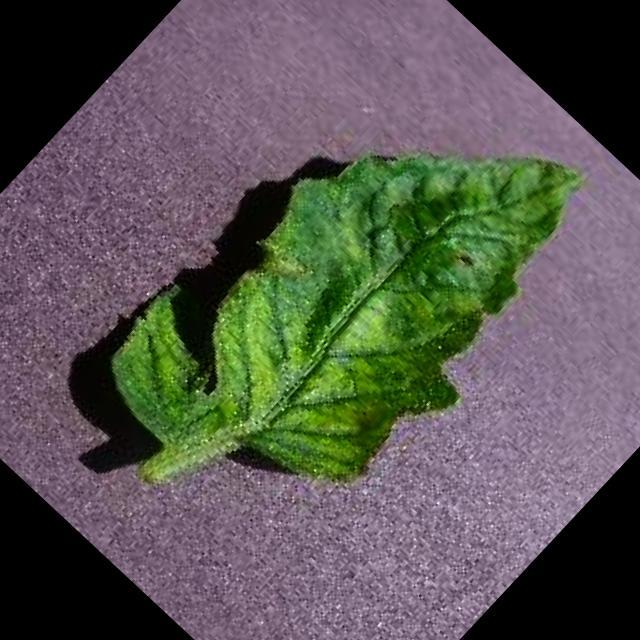Tomato mosaic virus leaf: (72, 8, 635, 580)
